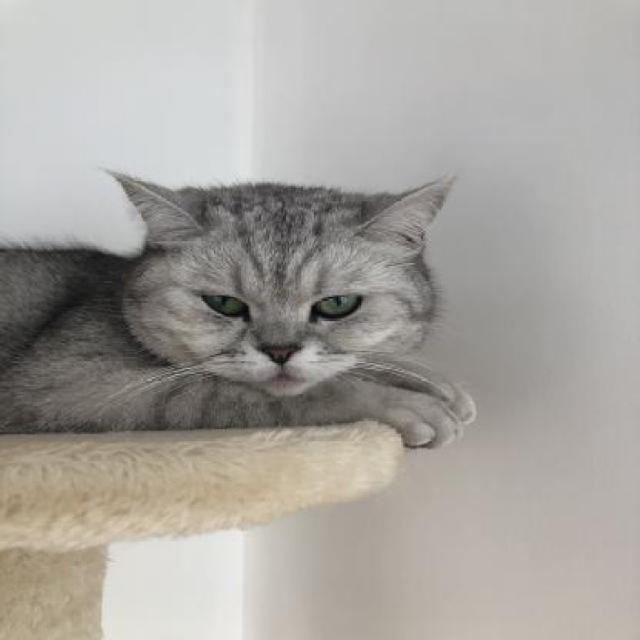cat-face: (117, 146, 417, 544)
